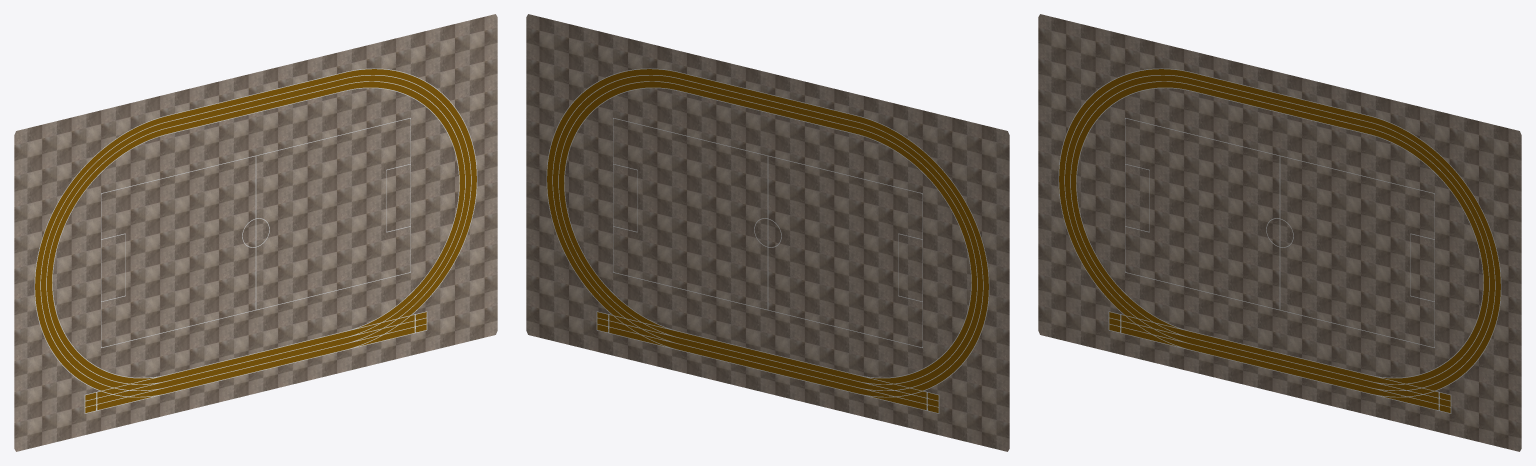
File: room.obj
3 renders of one model, left to right at view 1: azimuth 30°, elevation 25°; view 2: azimuth 150°, elevation 25°; view 3: azimuth 330°, elevation 25°, orthographic.
Parts seen in each view (by area): view 1: stadium_grass, stadium_dirt, stadium_white; view 2: stadium_grass, stadium_dirt, stadium_white; view 3: stadium_grass, stadium_dirt, stadium_white.
Boxes of the visible parts, bbox=[...] form: stadium_grass: bbox=[14, 14, 497, 451]; stadium_dirt: bbox=[35, 69, 476, 412]; stadium_white: bbox=[34, 68, 477, 413]; stadium_grass: bbox=[526, 14, 1009, 451]; stadium_dirt: bbox=[547, 69, 988, 412]; stadium_white: bbox=[546, 68, 989, 413]; stadium_grass: bbox=[1038, 14, 1521, 451]; stadium_dirt: bbox=[1059, 69, 1500, 412]; stadium_white: bbox=[1058, 68, 1501, 413].
Size of the model in its own units: 82 by 52 by 0.
3 materials, 1 textured.
